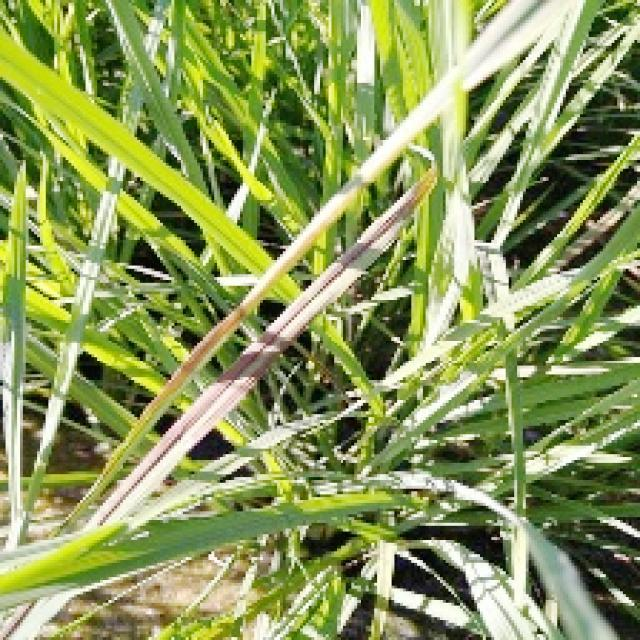health: (0, 42, 278, 279)
